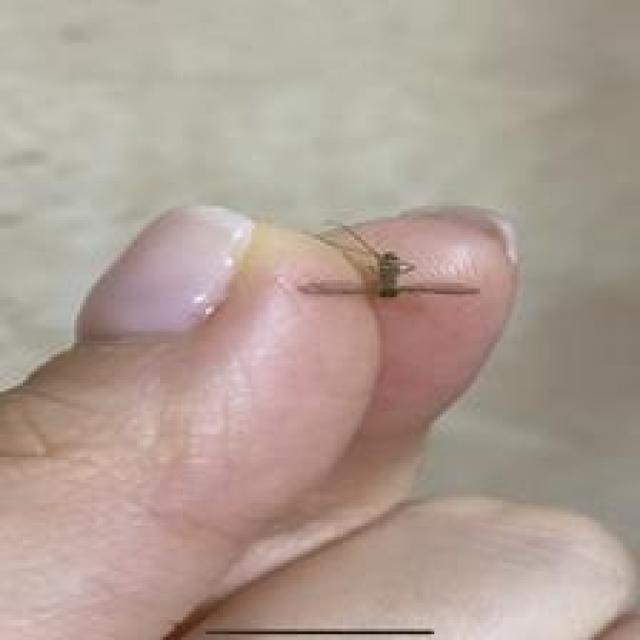Culex: (296, 220, 481, 300)
